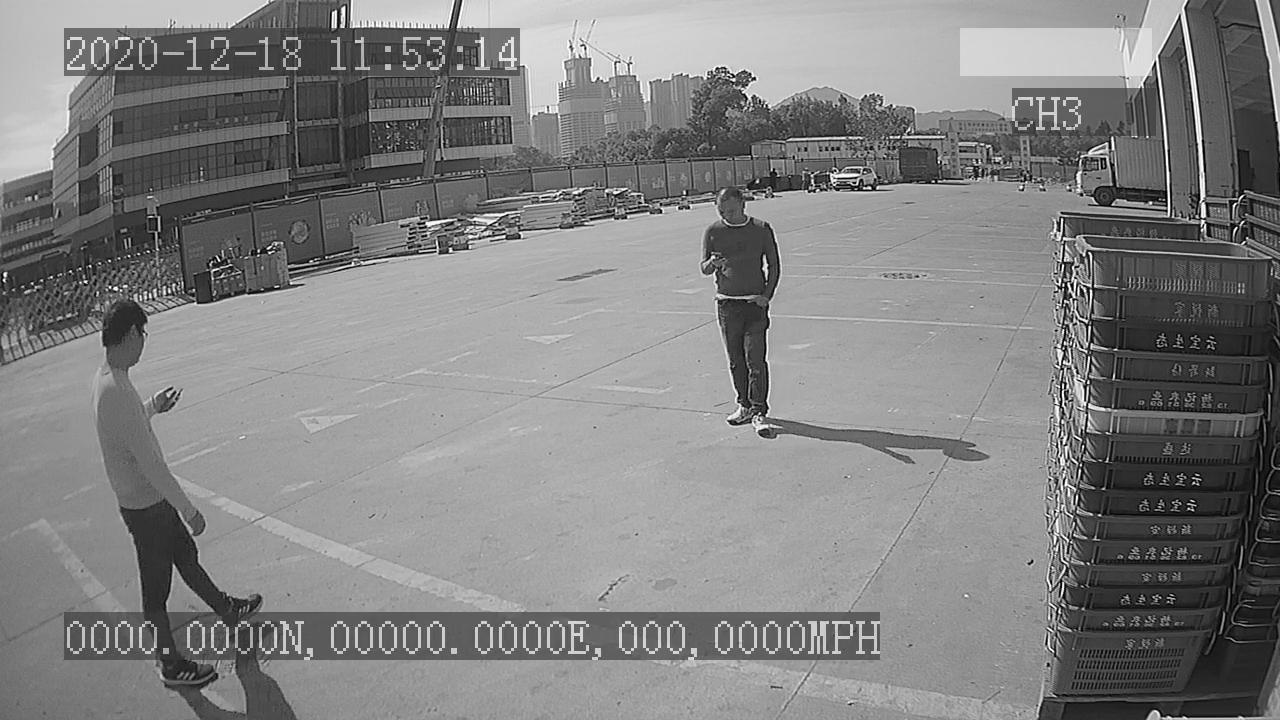person: (690, 188, 788, 438)
